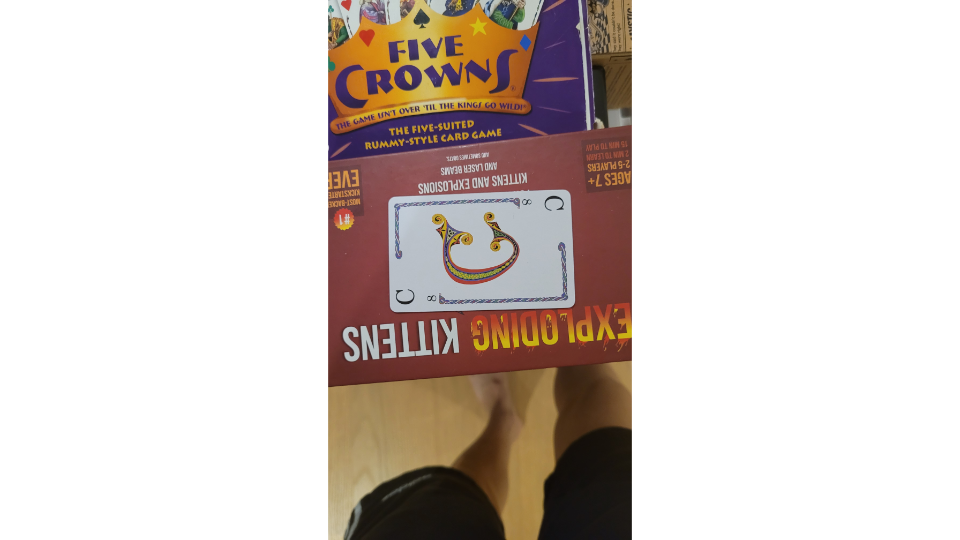C: (384, 187, 579, 314)
